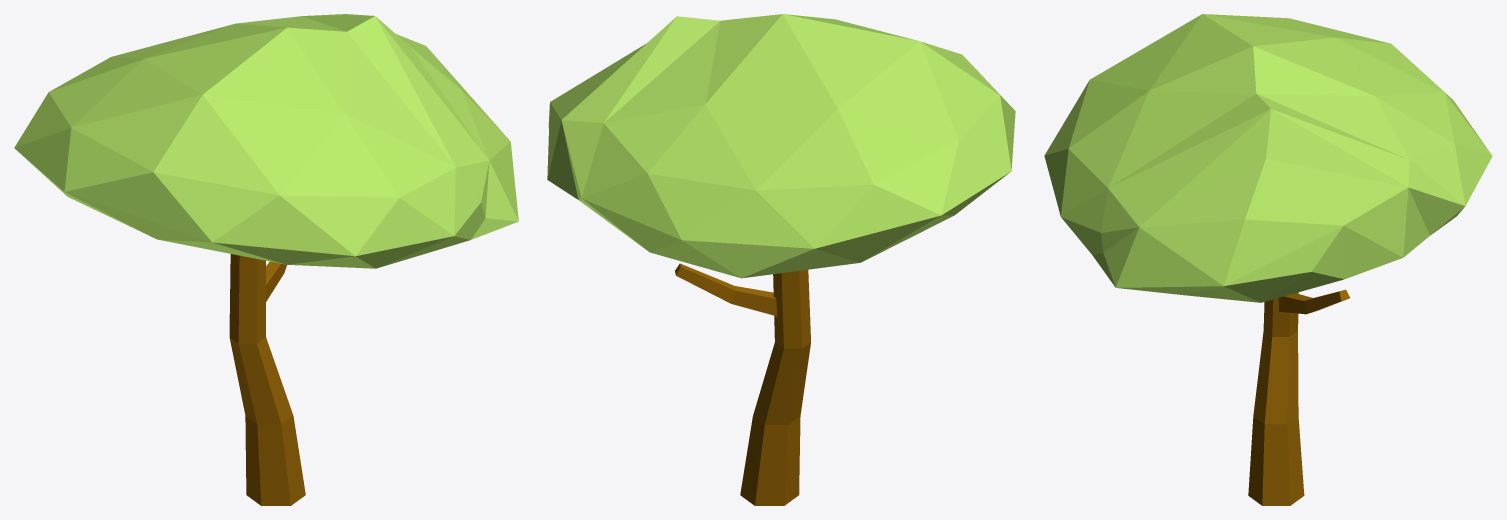
Rendered from tree_03.glb.
The picture shows the model from 3 angles, left to right: view 1: azimuth 30°, elevation 25°; view 2: azimuth 150°, elevation 25°; view 3: azimuth 270°, elevation 25°; orthographic projection. The views are drawn at different scales.
Visible parts, largest first — view 1: Tree3; view 2: Tree3; view 3: Tree3.
Boxes of the visible parts, x1,y1,x2,y2 form: Tree3: (14, 14, 518, 505); Tree3: (547, 14, 1015, 505); Tree3: (1044, 14, 1492, 505).
Bounding box in the file's own units: 15.52 × 16.27 × 14.72.
